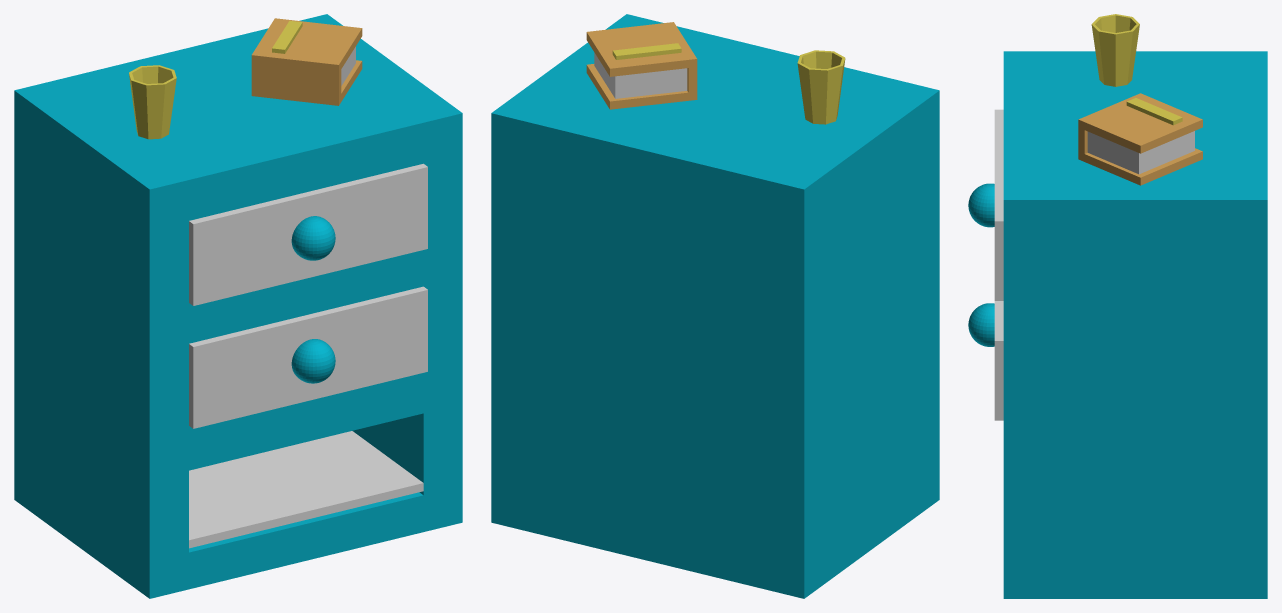
Rendered from Project149-SideTableModel.glb.
3 views of the same model, side by side, from view 1: azimuth 30°, elevation 25°; view 2: azimuth 150°, elevation 25°; view 3: azimuth 270°, elevation 25° (orthographic). The views are drawn at different scales.
Parts seen in each view (by area): view 1: Mesh_Mesh_head_geo.001_lambert2SG.001; view 2: Mesh_Mesh_head_geo.001_lambert2SG.001; view 3: Mesh_Mesh_head_geo.001_lambert2SG.001.
Part boxes in pixels (<box>): Mesh_Mesh_head_geo.001_lambert2SG.001: <box>14,14,462,598</box>; Mesh_Mesh_head_geo.001_lambert2SG.001: <box>491,14,939,598</box>; Mesh_Mesh_head_geo.001_lambert2SG.001: <box>968,14,1267,598</box>.
Size of the model in its own units: 80 by 114 by 68.
